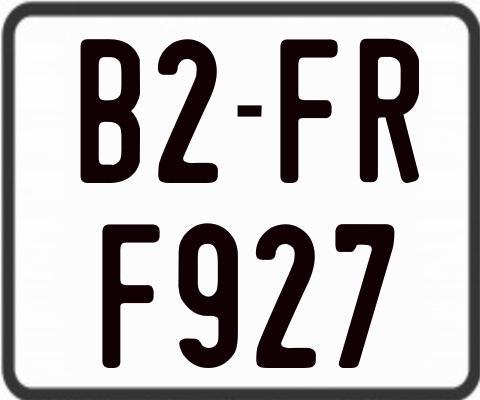2: (156, 37, 219, 185), (255, 221, 317, 370)
7: (332, 222, 396, 371)
9: (178, 223, 241, 373)
B: (81, 38, 141, 187)
F: (101, 223, 164, 371), (278, 39, 340, 188)
R: (359, 36, 423, 184)
